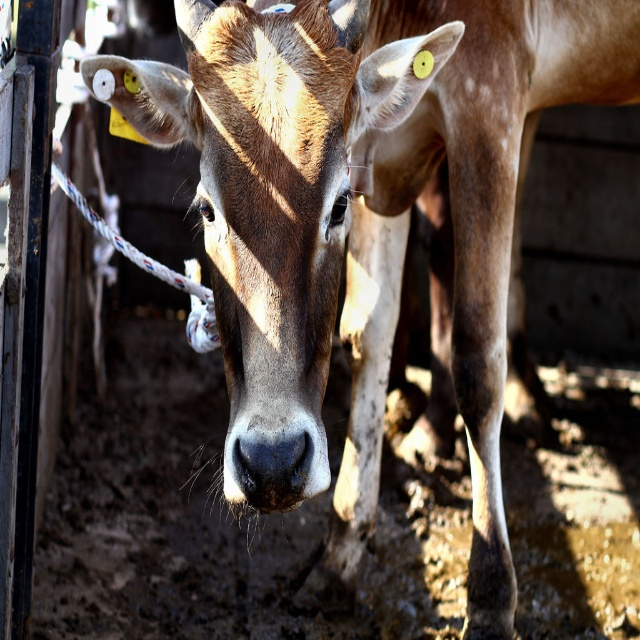Cattle: (77, 0, 640, 640)
